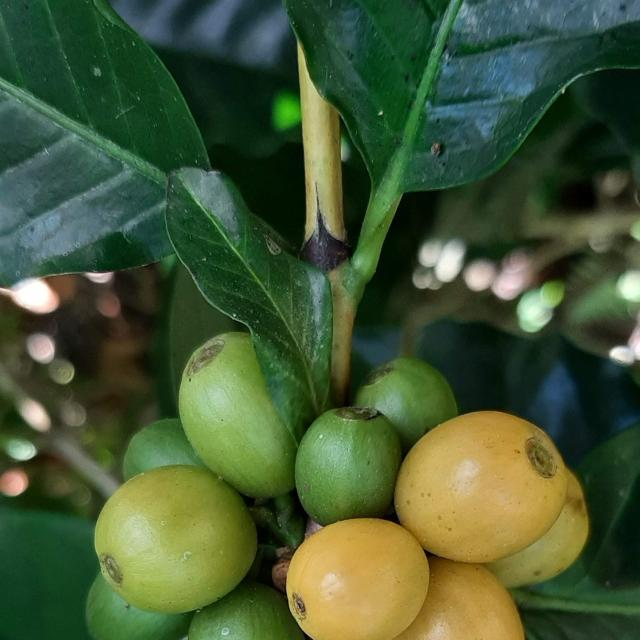green: (178, 332, 297, 499), (295, 407, 402, 527), (355, 358, 458, 454), (85, 575, 193, 640), (188, 582, 305, 640), (122, 419, 205, 481)
yellow: (395, 412, 569, 564), (94, 466, 257, 614), (287, 519, 430, 640), (487, 468, 590, 589), (394, 557, 526, 640)
